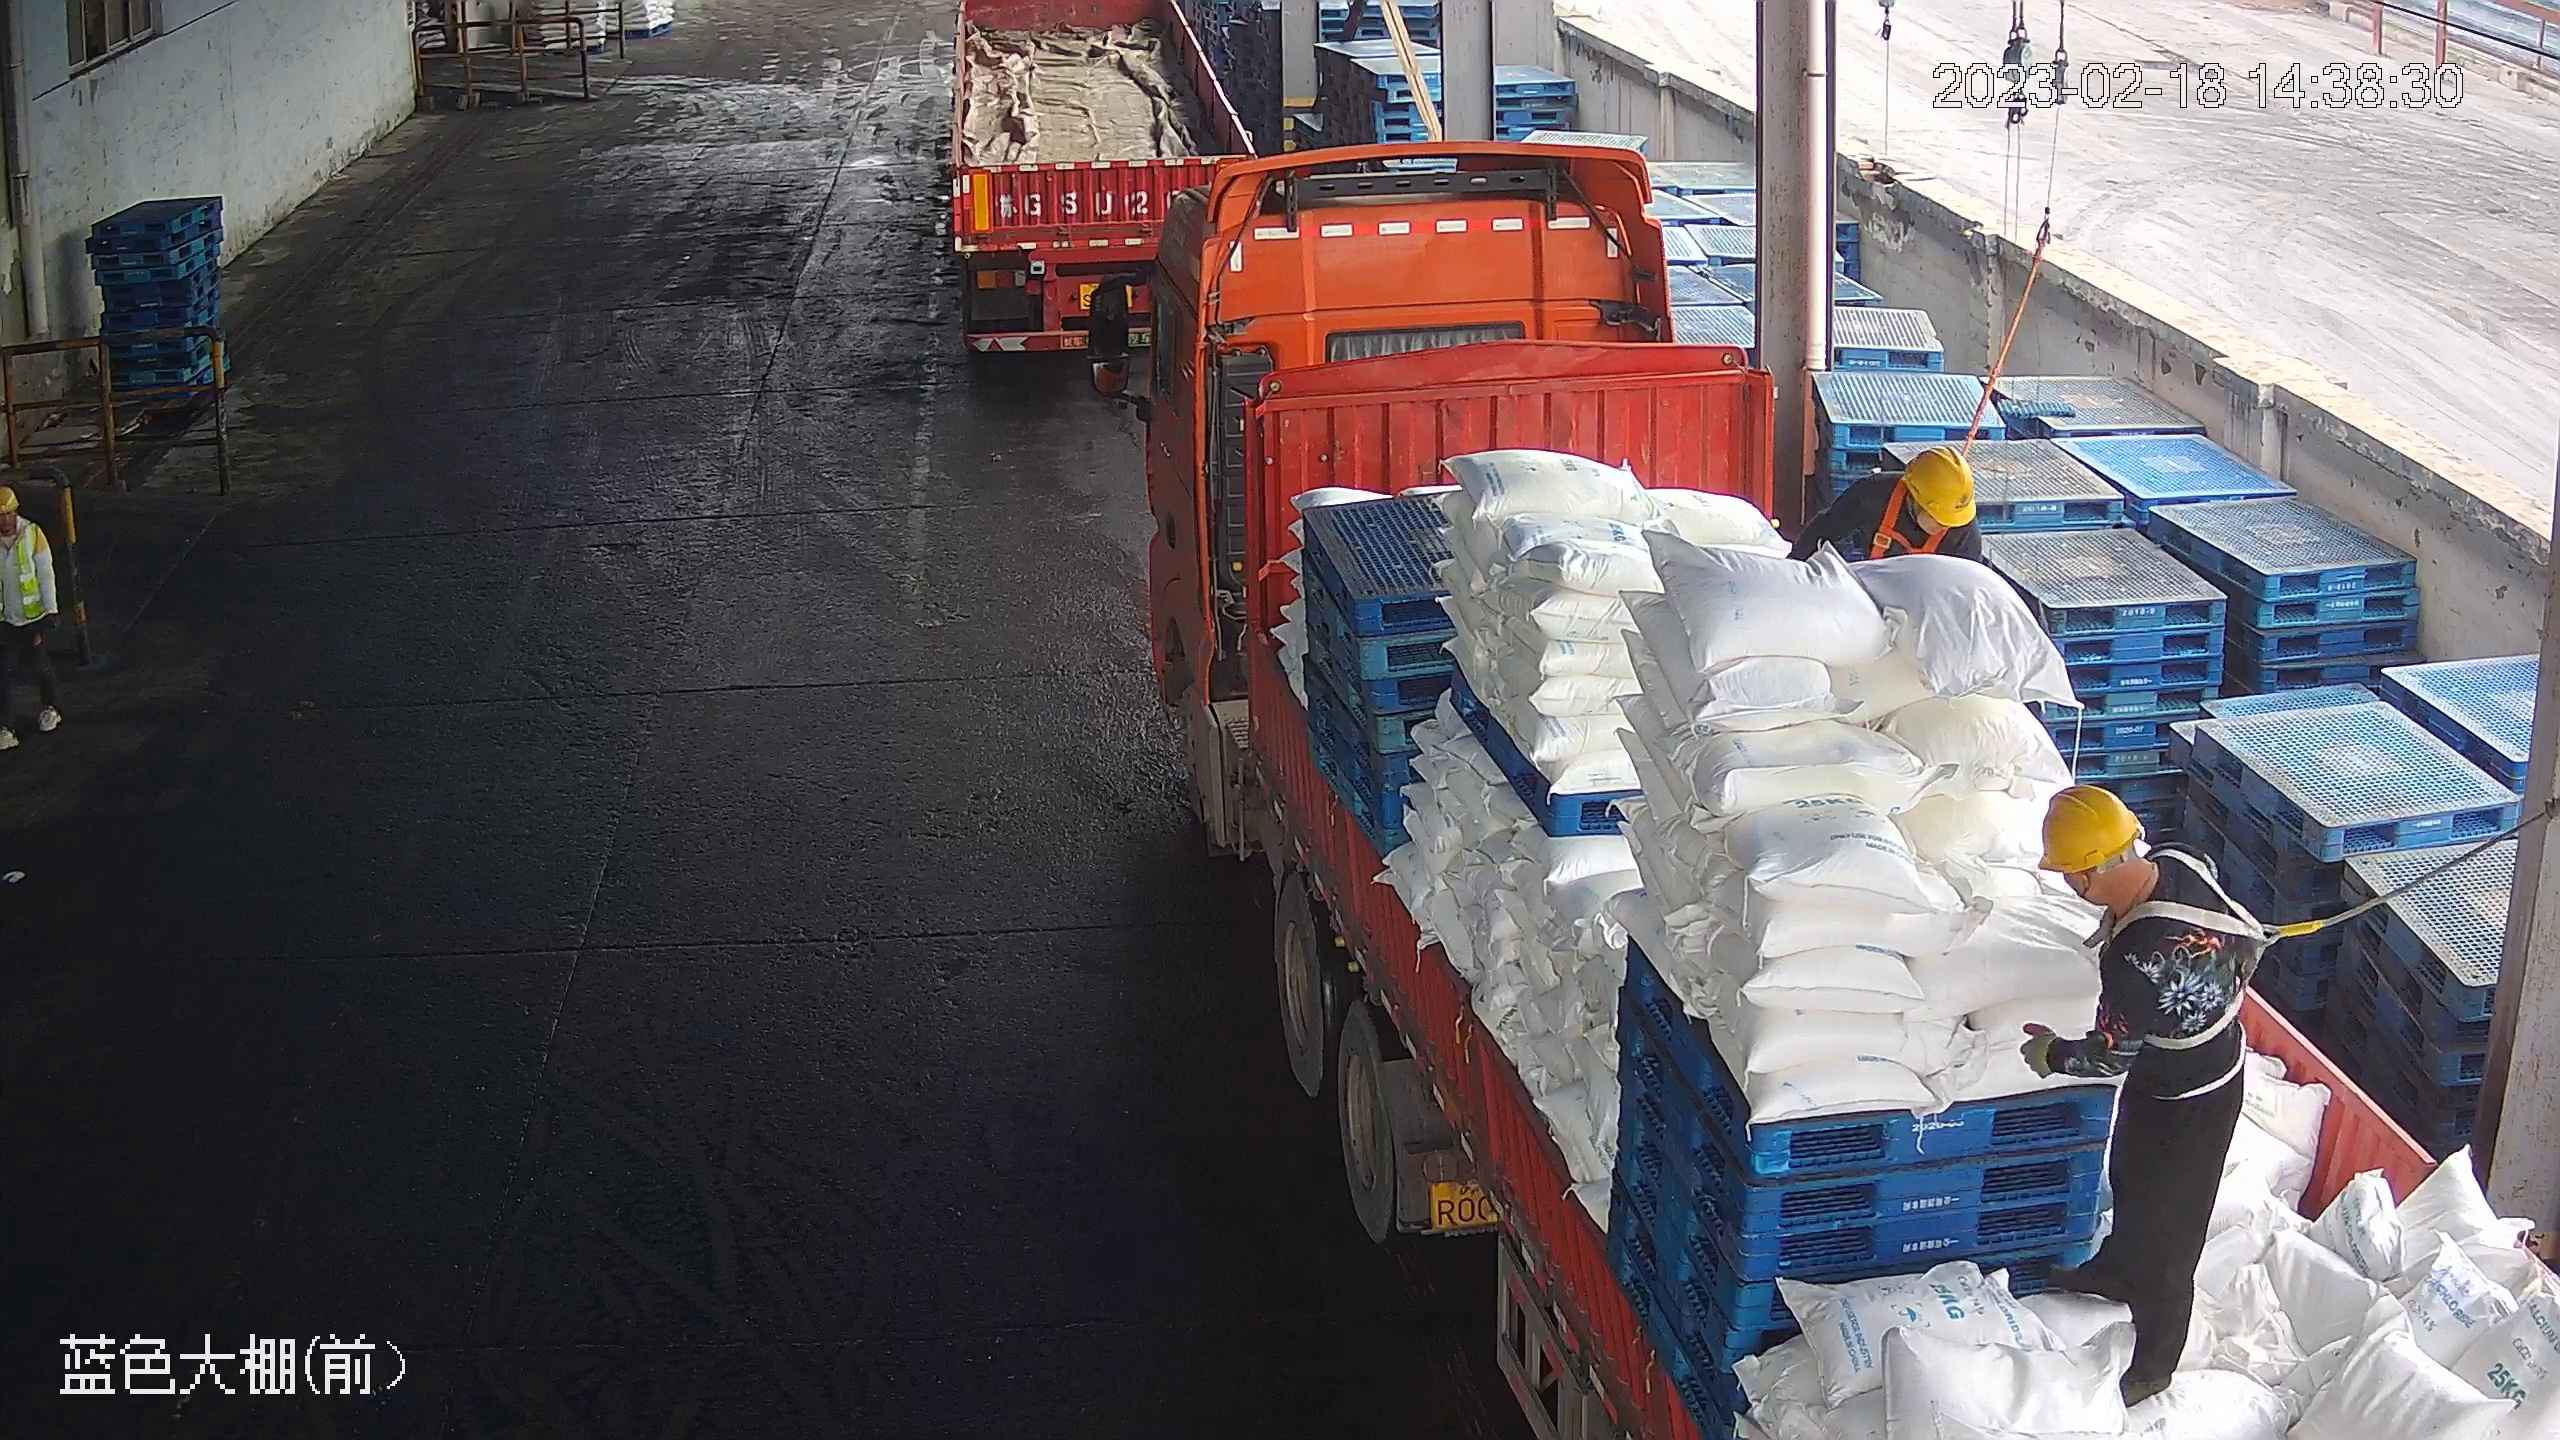belt: (2097, 885, 2303, 1054), (1871, 481, 1951, 560)
head: (2033, 782, 2249, 994), (1840, 443, 1981, 541)
helmet: (2036, 782, 2146, 874), (1904, 443, 1980, 526)
people: (2015, 783, 2253, 1414)
truck: (1092, 143, 2550, 1436), (934, 2, 1267, 372)
